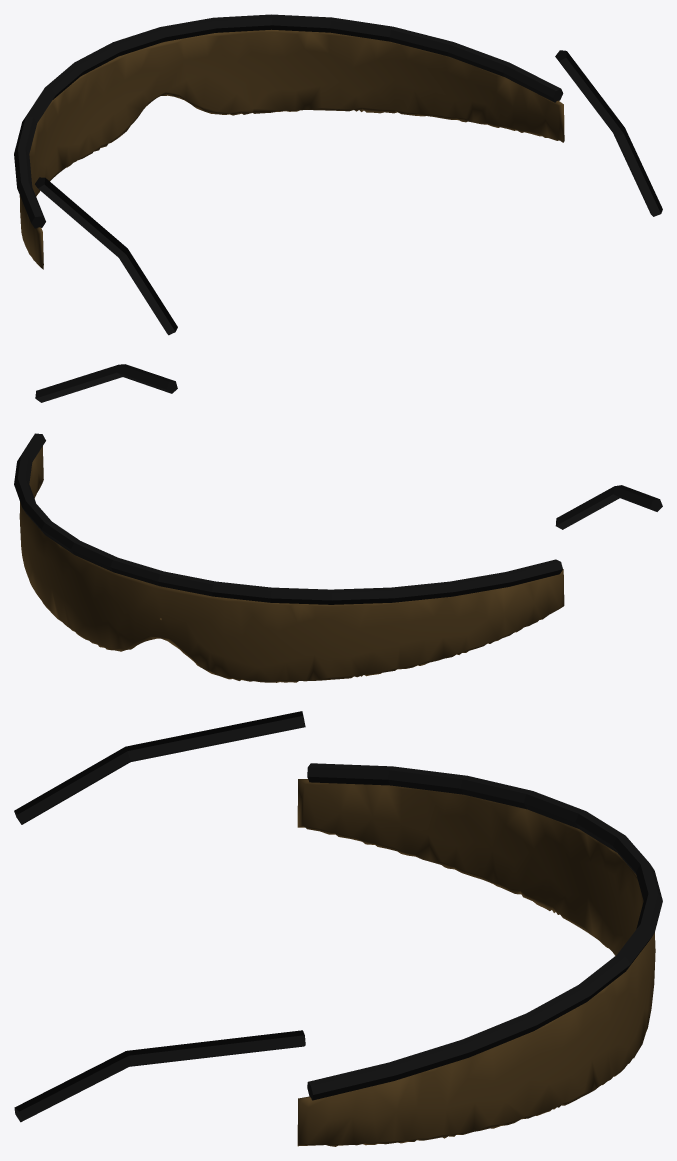
Rendered from eyepro.glb.
3 views of the same model, one above another, from view 1: azimuth 30°, elevation 25°; view 2: azimuth 150°, elevation 25°; view 3: azimuth 270°, elevation 25° (orthographic). The views are drawn at different scales.
Visible parts, largest first — view 1: eyepro_LOD0; view 2: eyepro_LOD0; view 3: eyepro_LOD0.
Part boxes in pixels (x1=…): eyepro_LOD0: x1=14, y1=14, x2=662, y2=335; eyepro_LOD0: x1=14, y1=364, x2=662, y2=682; eyepro_LOD0: x1=14, y1=711, x2=662, y2=1146.
Size of what is drawn, in the model's own units: 0.1758 by 0.0361 by 0.1477.
